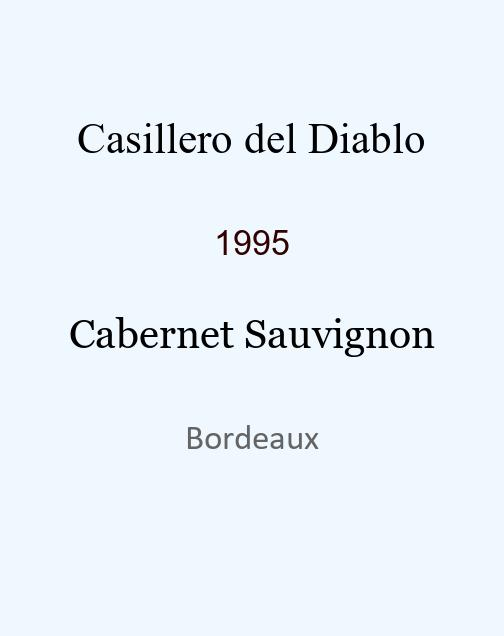brand: (77, 114, 426, 144)
region: (185, 422, 319, 446)
variety: (69, 310, 435, 350)
vintage: (214, 224, 290, 249)
